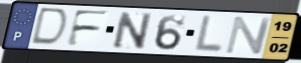6: (153, 14, 186, 52)
D: (28, 6, 71, 48)
F: (64, 9, 112, 48)
L: (192, 14, 226, 55)
N: (223, 16, 274, 55), (111, 10, 154, 50)
